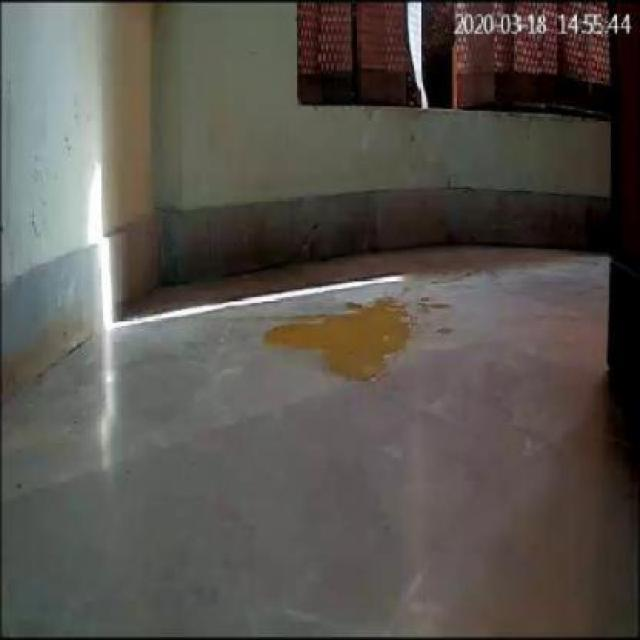spillage: (260, 303, 412, 382)
